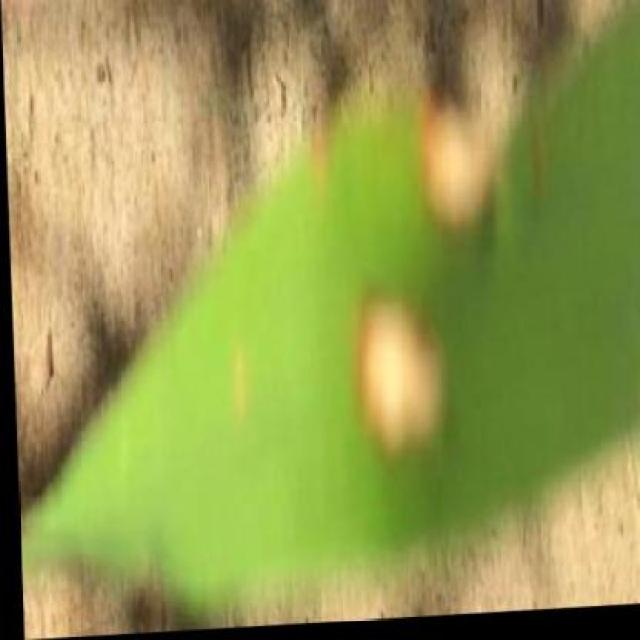Bacterial_Leaf_Blight: (313, 260, 478, 505), (376, 69, 506, 266)
